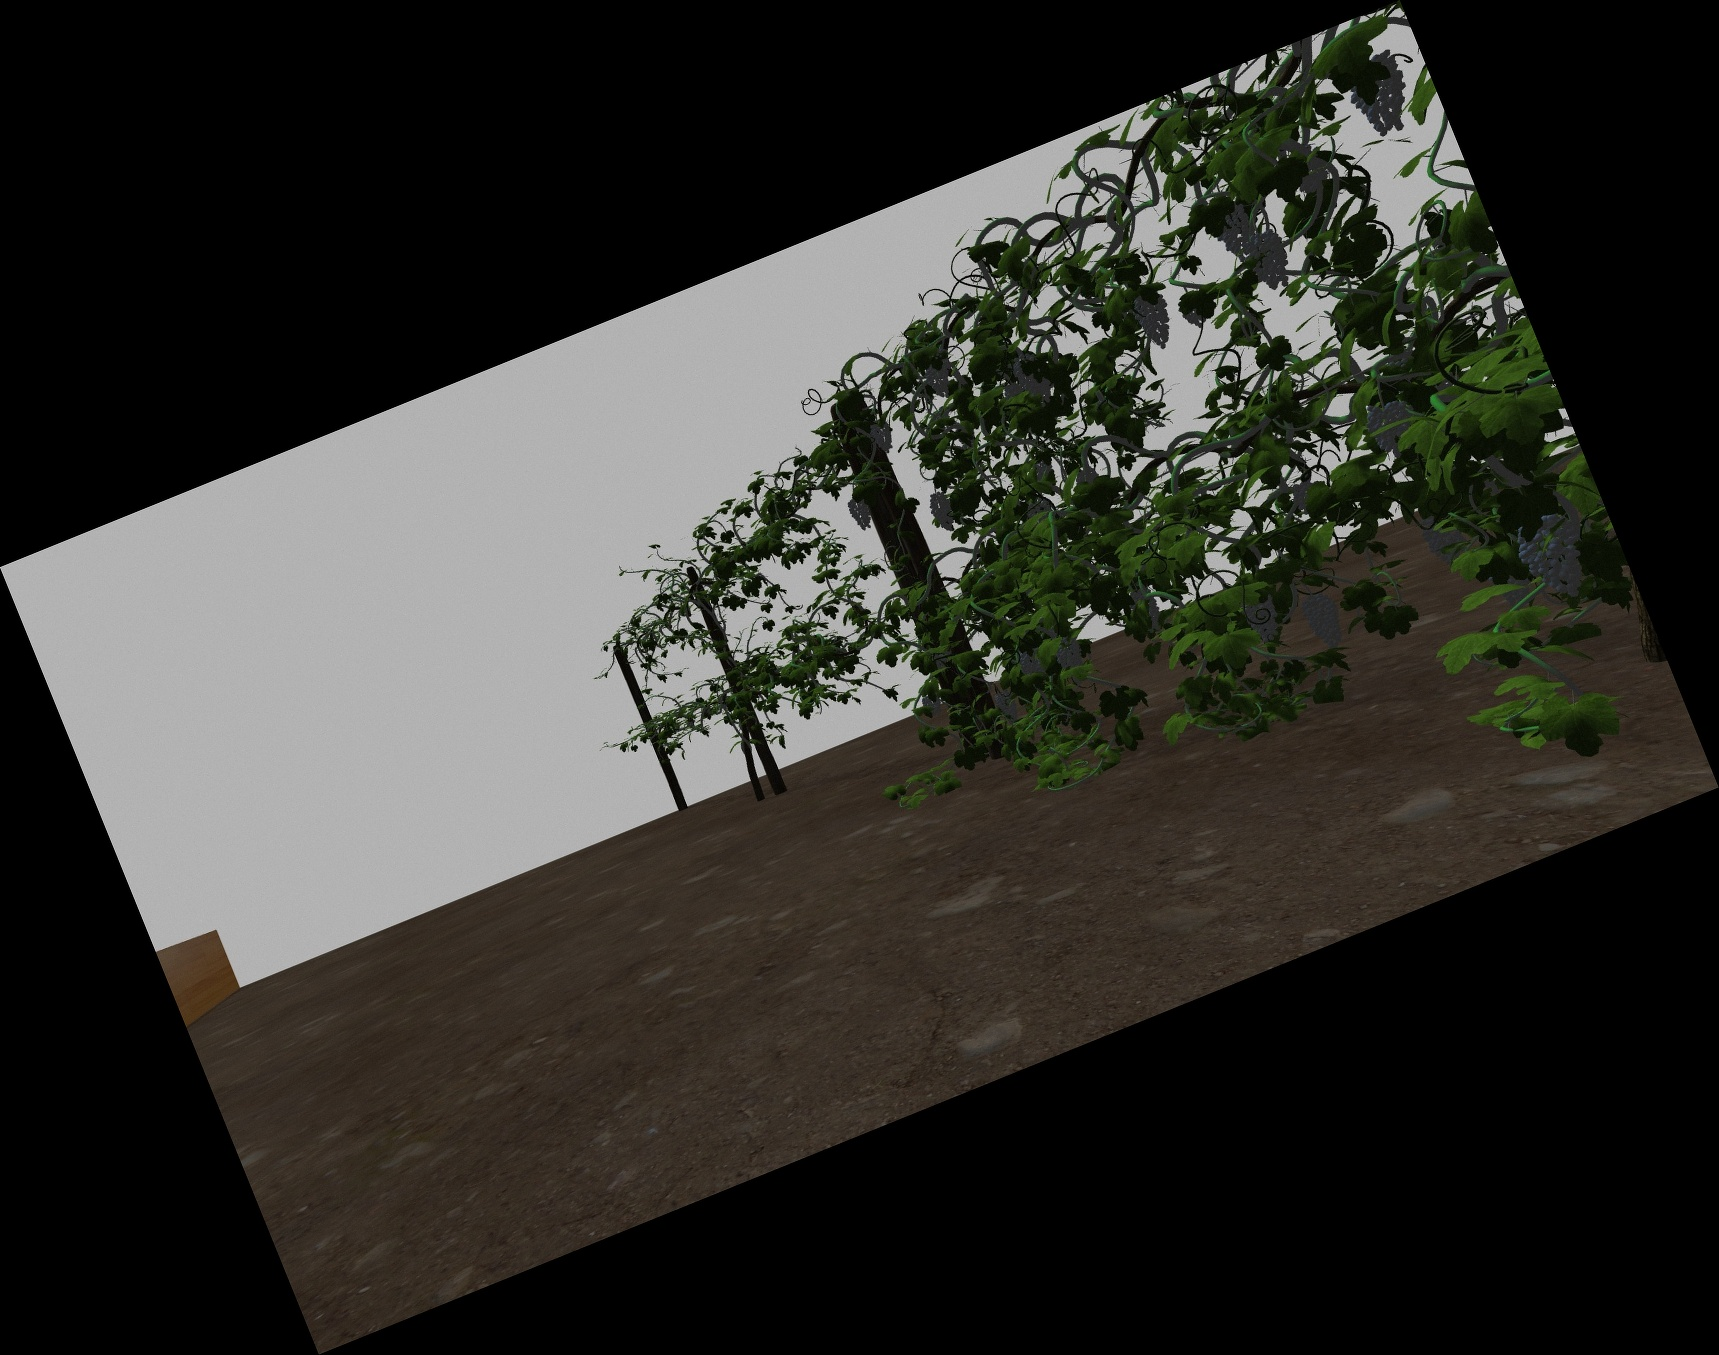grape: (1524, 516, 1584, 599), (1353, 59, 1409, 133), (1250, 233, 1291, 289), (1137, 293, 1173, 347), (1369, 402, 1412, 447), (1306, 594, 1341, 645), (1425, 516, 1461, 562), (1219, 208, 1254, 254), (1247, 597, 1279, 643), (1019, 354, 1045, 405), (932, 493, 953, 533), (850, 497, 871, 532), (926, 364, 949, 396), (1056, 641, 1081, 668), (873, 420, 893, 454), (998, 692, 1016, 723), (922, 696, 942, 716)
